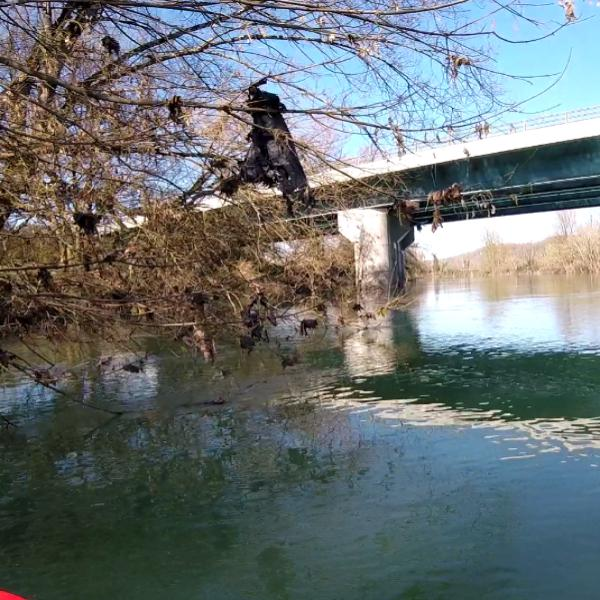fragments: (219, 75, 322, 220)
